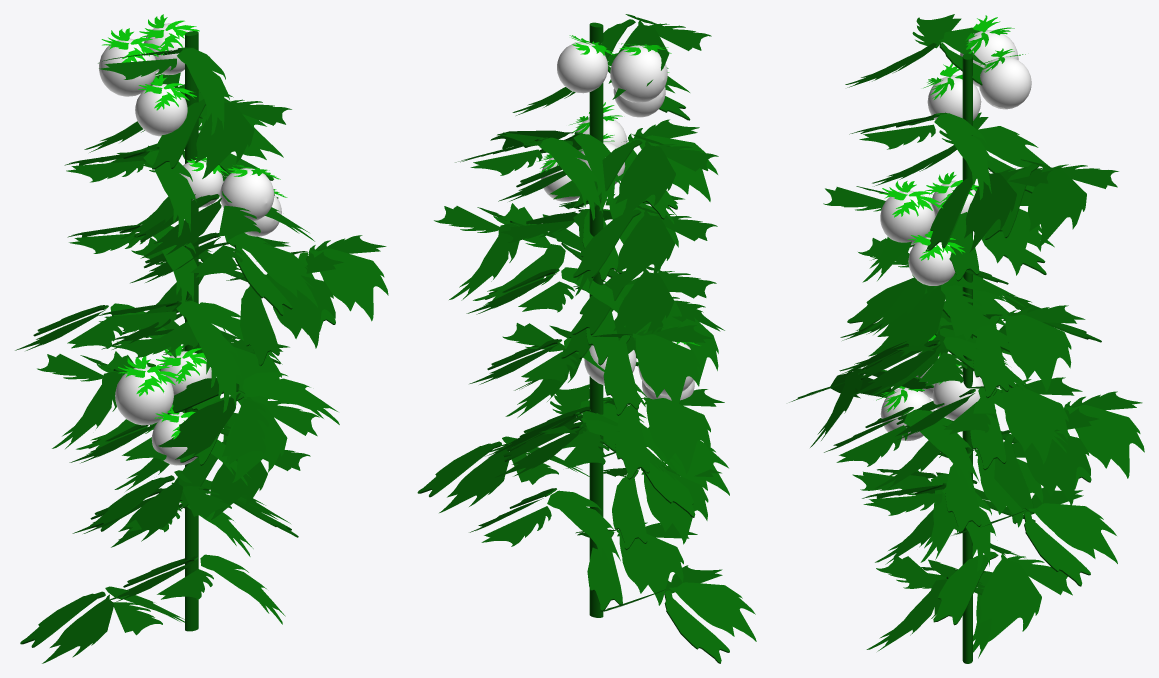
Rendered from tomato_plant.obj.
3 views of the same model, side by side, from view 1: azimuth 30°, elevation 25°; view 2: azimuth 150°, elevation 25°; view 3: azimuth 270°, elevation 25° (orthographic). The views are drawn at different scales.
Visible parts, largest first — view 1: Mesh114 Group39 Group38 Group35 Group3 Group1 tomato_plant1 Mode, Mesh5 Group4 Group3 Group1 tomato_plant1 Model, Mesh42 Group17 Group13 Group3 Group1 tomato_plant1 Model, Mesh150 Group51 Group49 Group3 Group1 tomato_plant1 Model, Mesh58 Group21 Group13 Group3 Group1 tomato_plant1 Model, Mesh22 Group12 Group11 Group6 Group3 Group1 tomato_plant1 Model, Mesh3 Group2 Group1 tomato_plant1 Model, Mesh16 Group10 Group9 Group6 Group3 Group1 tomato_plant1 Model, Mesh132 Group46 Group45 Group42 Group3 Group1 tomato_plant1 Mode, Mesh4 Group2 Group1 tomato_plant1 Model, Mesh167 Group55 Group49 Group3 Group1 tomato_plant1 Model, Mesh155 Group52 Group49 Group3 Group1 tomato_plant1 Model (+52 smaller); view 2: Mesh5 Group4 Group3 Group1 tomato_plant1 Model, Mesh146 Group50 Group49 Group3 Group1 tomato_plant1 Model, Mesh94 Group31 Group24 Group3 Group1 tomato_plant1 Model, Mesh78 Group27 Group24 Group3 Group1 tomato_plant1 Model, Mesh16 Group10 Group9 Group6 Group3 Group1 tomato_plant1 Model, Mesh70 Group25 Group24 Group3 Group1 tomato_plant1 Model, Mesh170 Group56 Group49 Group3 Group1 tomato_plant1 Model, Mesh178 Group58 Group49 Group3 Group1 tomato_plant1 Model, Mesh154 Group52 Group49 Group3 Group1 tomato_plant1 Model, Mesh10 Group8 Group7 Group6 Group3 Group1 tomato_plant1 Model, Mesh107 Group34 Group24 Group3 Group1 tomato_plant1 Model, Mesh102 Group33 Group24 Group3 Group1 tomato_plant1 Model (+56 smaller); view 3: Mesh106 Group34 Group24 Group3 Group1 tomato_plant1 Model, Mesh54 Group20 Group13 Group3 Group1 tomato_plant1 Model, Mesh62 Group22 Group13 Group3 Group1 tomato_plant1 Model, Mesh158 Group53 Group49 Group3 Group1 tomato_plant1 Model, Mesh82 Group28 Group24 Group3 Group1 tomato_plant1 Model, Mesh30 Group14 Group13 Group3 Group1 tomato_plant1 Model, Mesh98 Group32 Group24 Group3 Group1 tomato_plant1 Model, Mesh5 Group4 Group3 Group1 tomato_plant1 Model, Mesh182 Group59 Group49 Group3 Group1 tomato_plant1 Model, Mesh132 Group46 Group45 Group42 Group3 Group1 tomato_plant1 Mode, Mesh10 Group8 Group7 Group6 Group3 Group1 tomato_plant1 Model, Mesh174 Group57 Group49 Group3 Group1 tomato_plant1 Model (+56 smaller).
Boxes of the visible parts, x1=… form: Mesh114 Group39 Group38 Group35 Group3 Group1 tomato_plant1 Mode: x1=115, y1=366, x2=184, y2=425; Mesh5 Group4 Group3 Group1 tomato_plant1 Model: x1=185, y1=31, x2=198, y2=631; Mesh42 Group17 Group13 Group3 Group1 tomato_plant1 Model: x1=309, y1=248, x2=388, y2=321; Mesh150 Group51 Group49 Group3 Group1 tomato_plant1 Model: x1=195, y1=102, x2=254, y2=178; Mesh58 Group21 Group13 Group3 Group1 tomato_plant1 Model: x1=264, y1=274, x2=335, y2=348; Mesh22 Group12 Group11 Group6 Group3 Group1 tomato_plant1 Model: x1=135, y1=83, x2=196, y2=136; Mesh3 Group2 Group1 tomato_plant1 Model: x1=158, y1=393, x2=240, y2=459; Mesh16 Group10 Group9 Group6 Group3 Group1 tomato_plant1 Model: x1=99, y1=38, x2=167, y2=96; Mesh132 Group46 Group45 Group42 Group3 Group1 tomato_plant1 Mode: x1=220, y1=164, x2=280, y2=221; Mesh4 Group2 Group1 tomato_plant1 Model: x1=242, y1=372, x2=339, y2=424; Mesh167 Group55 Group49 Group3 Group1 tomato_plant1 Model: x1=177, y1=48, x2=229, y2=135; Mesh155 Group52 Group49 Group3 Group1 tomato_plant1 Model: x1=176, y1=301, x2=229, y2=387; Mesh5 Group4 Group3 Group1 tomato_plant1 Model: x1=589, y1=22, x2=603, y2=617; Mesh146 Group50 Group49 Group3 Group1 tomato_plant1 Model: x1=632, y1=333, x2=699, y2=410; Mesh94 Group31 Group24 Group3 Group1 tomato_plant1 Model: x1=643, y1=397, x2=710, y2=473; Mesh78 Group27 Group24 Group3 Group1 tomato_plant1 Model: x1=616, y1=529, x2=683, y2=605; Mesh16 Group10 Group9 Group6 Group3 Group1 tomato_plant1 Model: x1=610, y1=43, x2=671, y2=102; Mesh70 Group25 Group24 Group3 Group1 tomato_plant1 Model: x1=669, y1=582, x2=756, y2=641; Mesh170 Group56 Group49 Group3 Group1 tomato_plant1 Model: x1=615, y1=141, x2=675, y2=219; Mesh178 Group58 Group49 Group3 Group1 tomato_plant1 Model: x1=614, y1=210, x2=674, y2=289; Mesh154 Group52 Group49 Group3 Group1 tomato_plant1 Model: x1=614, y1=269, x2=674, y2=337; Mesh10 Group8 Group7 Group6 Group3 Group1 tomato_plant1 Model: x1=557, y1=35, x2=614, y2=93; Mesh107 Group34 Group24 Group3 Group1 tomato_plant1 Model: x1=547, y1=490, x2=620, y2=570; Mesh102 Group33 Group24 Group3 Group1 tomato_plant1 Model: x1=641, y1=468, x2=708, y2=544; Mesh106 Group34 Group24 Group3 Group1 tomato_plant1 Model: x1=979, y1=554, x2=1041, y2=642; Mesh54 Group20 Group13 Group3 Group1 tomato_plant1 Model: x1=1002, y1=314, x2=1071, y2=391; Mesh62 Group22 Group13 Group3 Group1 tomato_plant1 Model: x1=999, y1=386, x2=1068, y2=464; Mesh158 Group53 Group49 Group3 Group1 tomato_plant1 Model: x1=1028, y1=164, x2=1086, y2=246; Mesh82 Group28 Group24 Group3 Group1 tomato_plant1 Model: x1=1064, y1=405, x2=1144, y2=478; Mesh30 Group14 Group13 Group3 Group1 tomato_plant1 Model: x1=1028, y1=503, x2=1117, y2=563; Mesh98 Group32 Group24 Group3 Group1 tomato_plant1 Model: x1=1022, y1=432, x2=1090, y2=506; Mesh5 Group4 Group3 Group1 tomato_plant1 Model: x1=962, y1=53, x2=972, y2=663; Mesh182 Group59 Group49 Group3 Group1 tomato_plant1 Model: x1=868, y1=285, x2=945, y2=357; Mesh132 Group46 Group45 Group42 Group3 Group1 tomato_plant1 Mode: x1=880, y1=190, x2=942, y2=245; Mesh10 Group8 Group7 Group6 Group3 Group1 tomato_plant1 Model: x1=979, y1=56, x2=1031, y2=109; Mesh174 Group57 Group49 Group3 Group1 tomato_plant1 Model: x1=964, y1=173, x2=1016, y2=252.
Size of the model in its own units: 29.32 by 50.66 by 27.24.
